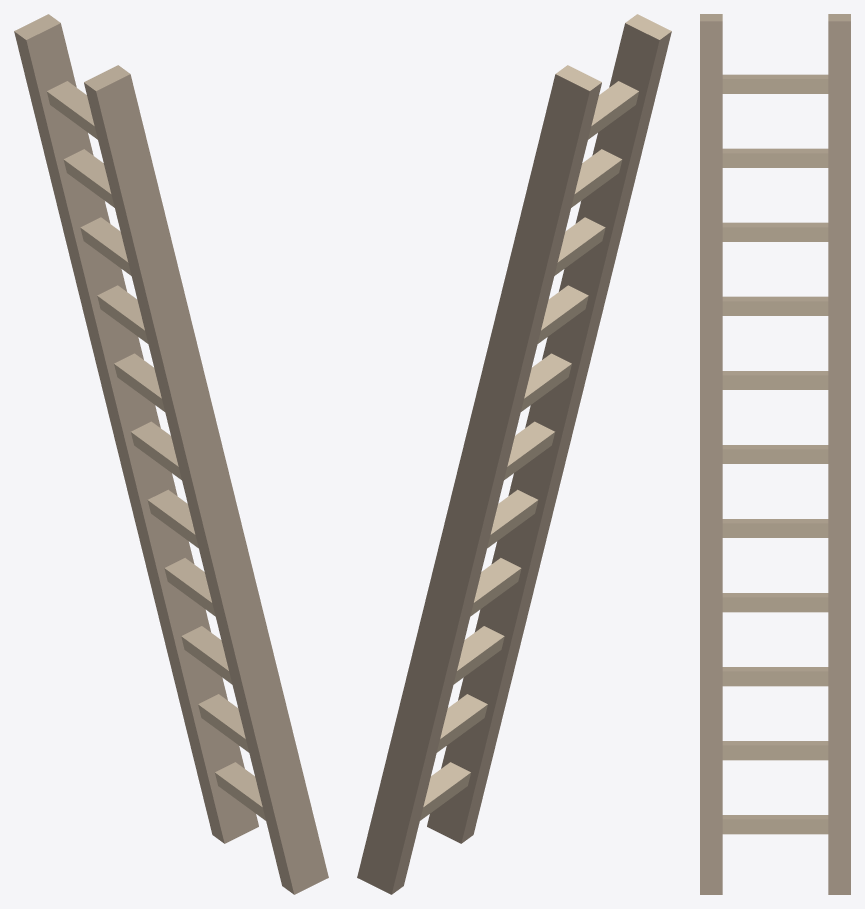
Rendered from Prop_Ladder_1.glb.
3 views of the same model, side by side, from view 1: azimuth 30°, elevation 25°; view 2: azimuth 150°, elevation 25°; view 3: azimuth 270°, elevation 25° (orthographic). The views are drawn at different scales.
Visible parts, largest first — view 1: object1; view 2: object1; view 3: object1.
Part boxes in pixels (x1=…): object1: x1=14, y1=14, x2=328, y2=894; object1: x1=357, y1=14, x2=671, y2=894; object1: x1=700, y1=14, x2=850, y2=894.
Bounding box in the file's own units: 1.11 × 3.93 × 0.678.
